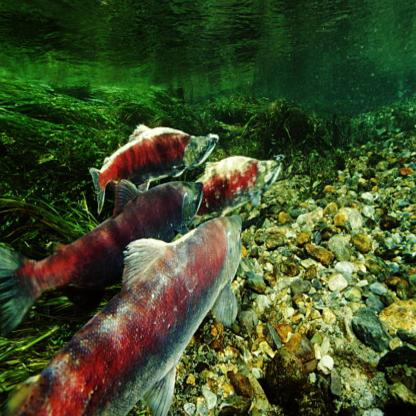sockeye: (32, 217, 245, 416), (97, 115, 277, 214)
sockeye-group: (0, 104, 267, 415)
